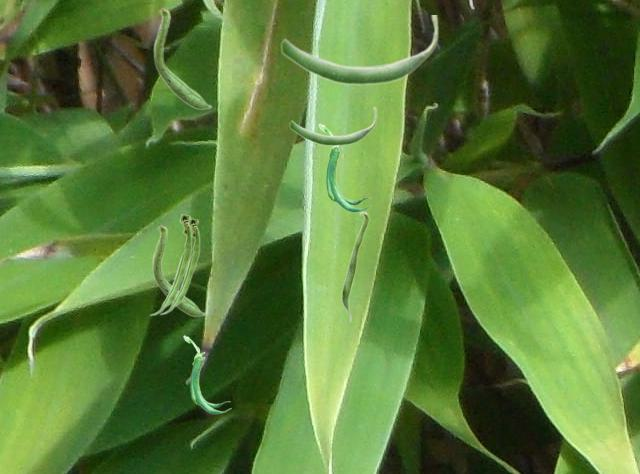french_bean: (280, 15, 438, 85), (153, 7, 211, 109), (152, 224, 205, 316), (318, 123, 371, 211), (149, 213, 191, 315), (159, 217, 199, 314), (183, 335, 230, 413), (289, 107, 376, 145), (341, 211, 368, 322)
